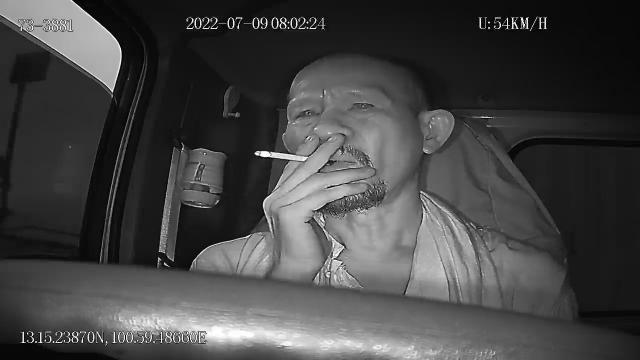SafeDriving: (344, 92, 383, 118)
Smoking: (253, 149, 311, 163)
